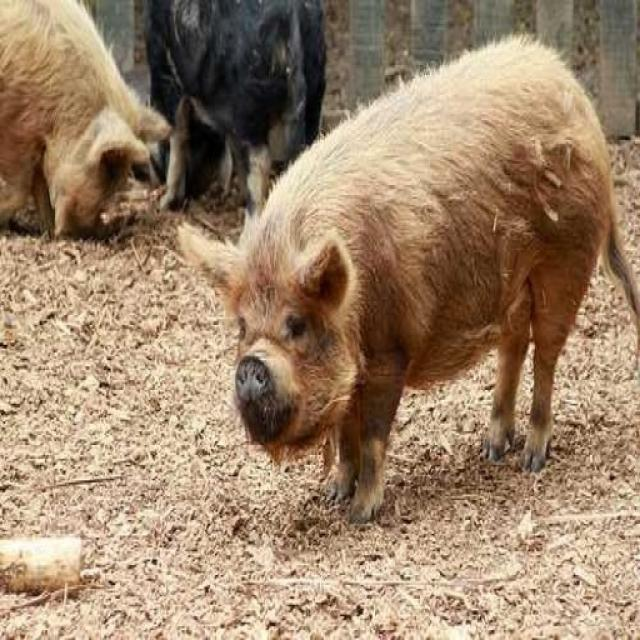pig: (211, 66, 640, 520), (0, 0, 183, 270), (88, 0, 325, 173)
